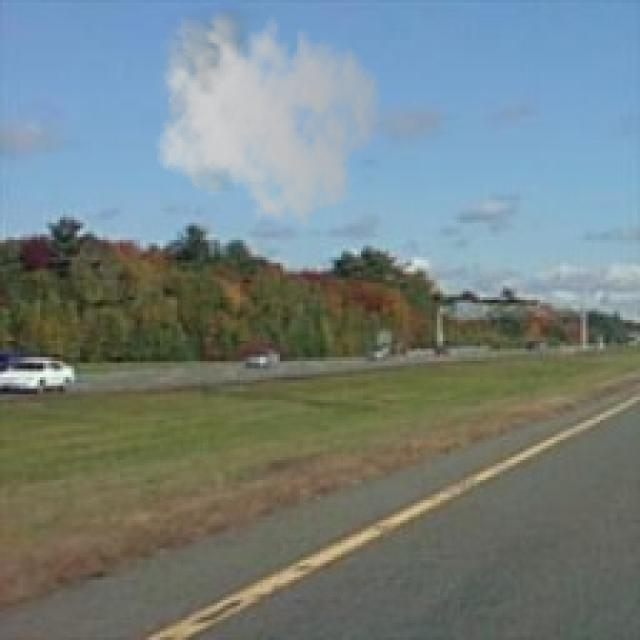smoke: (148, 0, 383, 229)
